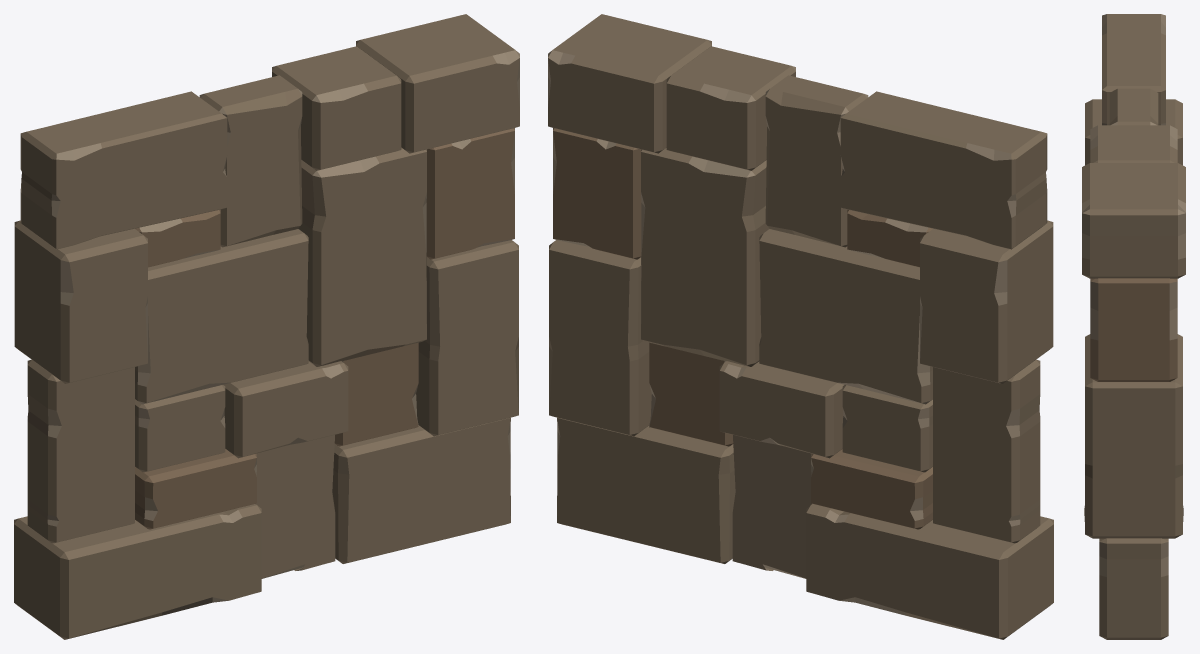
The model's file is Wall_Modular.glb.
3 renders of one model, left to right at view 1: azimuth 30°, elevation 25°; view 2: azimuth 150°, elevation 25°; view 3: azimuth 270°, elevation 25°, orthographic. The views are drawn at different scales.
Parts seen in each view (by area): view 1: Wall_Modular; view 2: Wall_Modular; view 3: Wall_Modular.
Part boxes in pixels (left/top/right/bottom): Wall_Modular: left=14, top=14, right=519, bottom=639; Wall_Modular: left=548, top=14, right=1053, bottom=639; Wall_Modular: left=1082, top=14, right=1185, bottom=639.
Size of the model in its own units: 2 by 2.01 by 0.4381.
